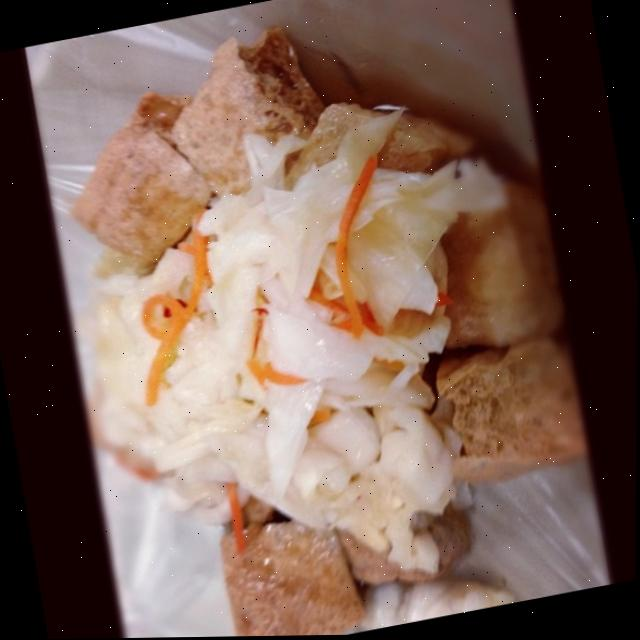豆腐料理: (31, 0, 611, 640)
